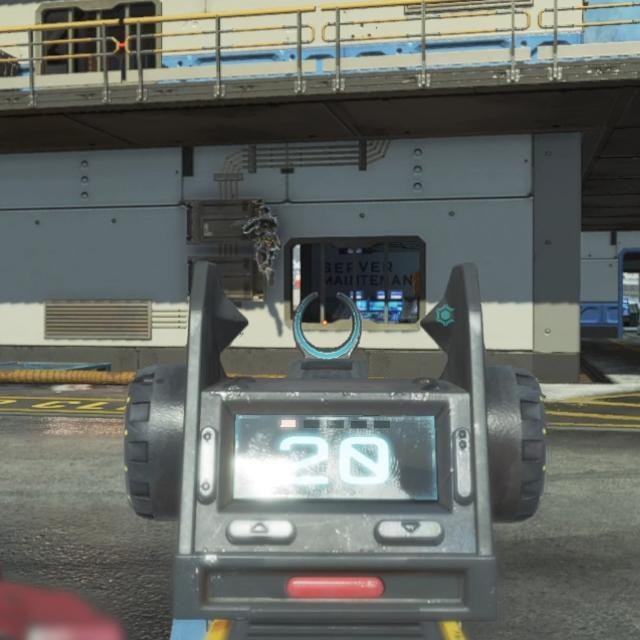avatar: (242, 202, 282, 288)
